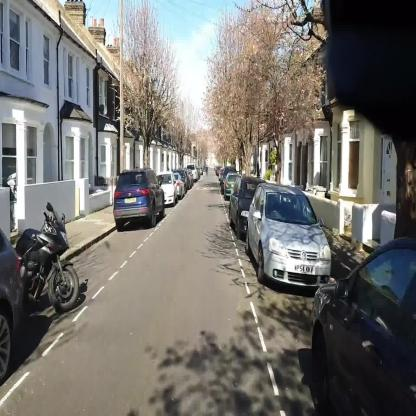car: (245, 182, 332, 288), (113, 167, 165, 227), (229, 177, 266, 239), (156, 172, 177, 207), (223, 172, 242, 200), (173, 170, 185, 199)
motorcycle: (14, 200, 80, 310)
